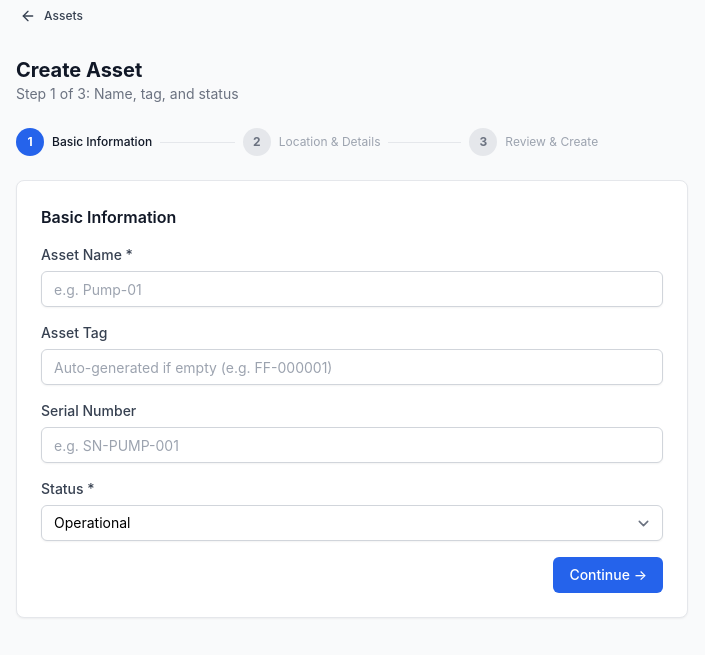
Scenario: AssetCreatePage › validates required name on step 1
Click the button "Continue →": (608, 575) [553,557,663,593]
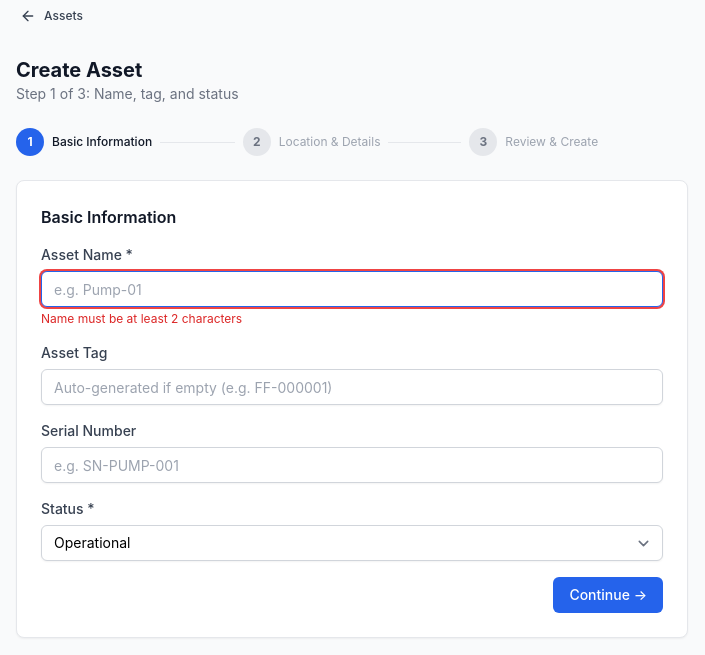
Expected: the text "Name must be at least 2 characters" is shown, [41,311,242,326]
